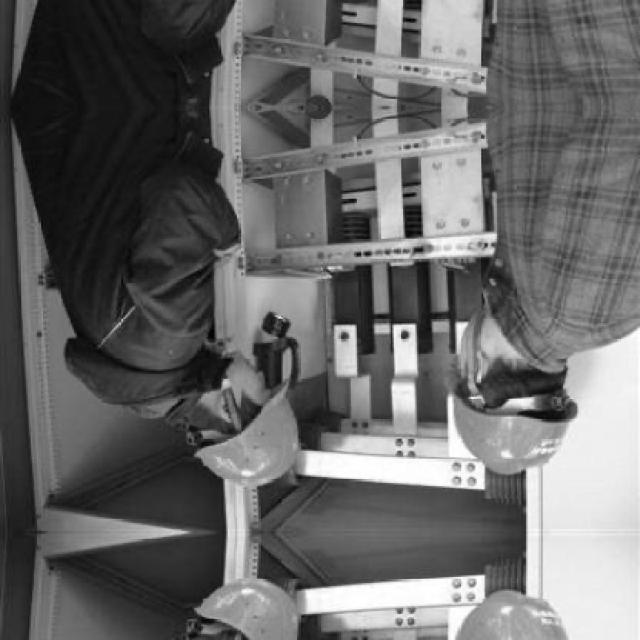con casco: (441, 275, 614, 485), (155, 348, 299, 514)
